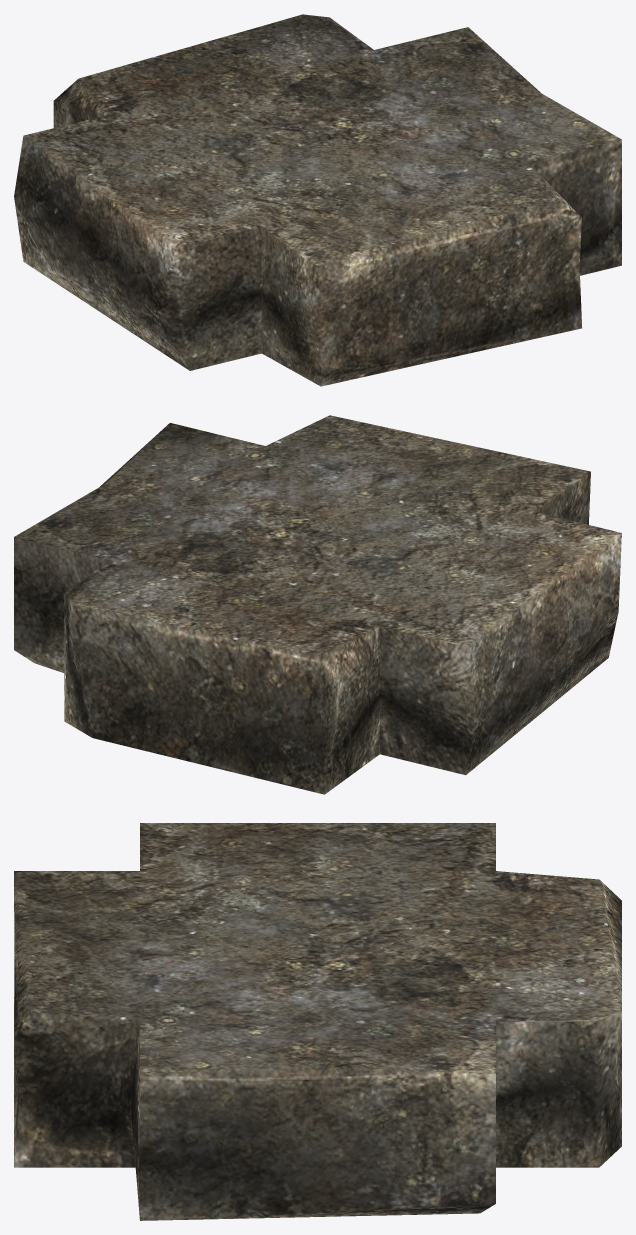
File: Ruins_05E.fbx
The picture shows the model from 3 angles, top to bottom: view 1: azimuth 30°, elevation 25°; view 2: azimuth 150°, elevation 25°; view 3: azimuth 270°, elevation 25°; orthographic projection. The views are drawn at different scales.
Visible parts, largest first — view 1: polySurface1693; view 2: polySurface1693; view 3: polySurface1693.
Boxes of the visible parts, x1,y1,x2,y2 form: polySurface1693: (14, 14, 621, 386); polySurface1693: (14, 415, 621, 794); polySurface1693: (14, 823, 621, 1220).
Bounding box in the file's own units: 2.68 × 0.712 × 2.68.
1 material, 1 textured.
